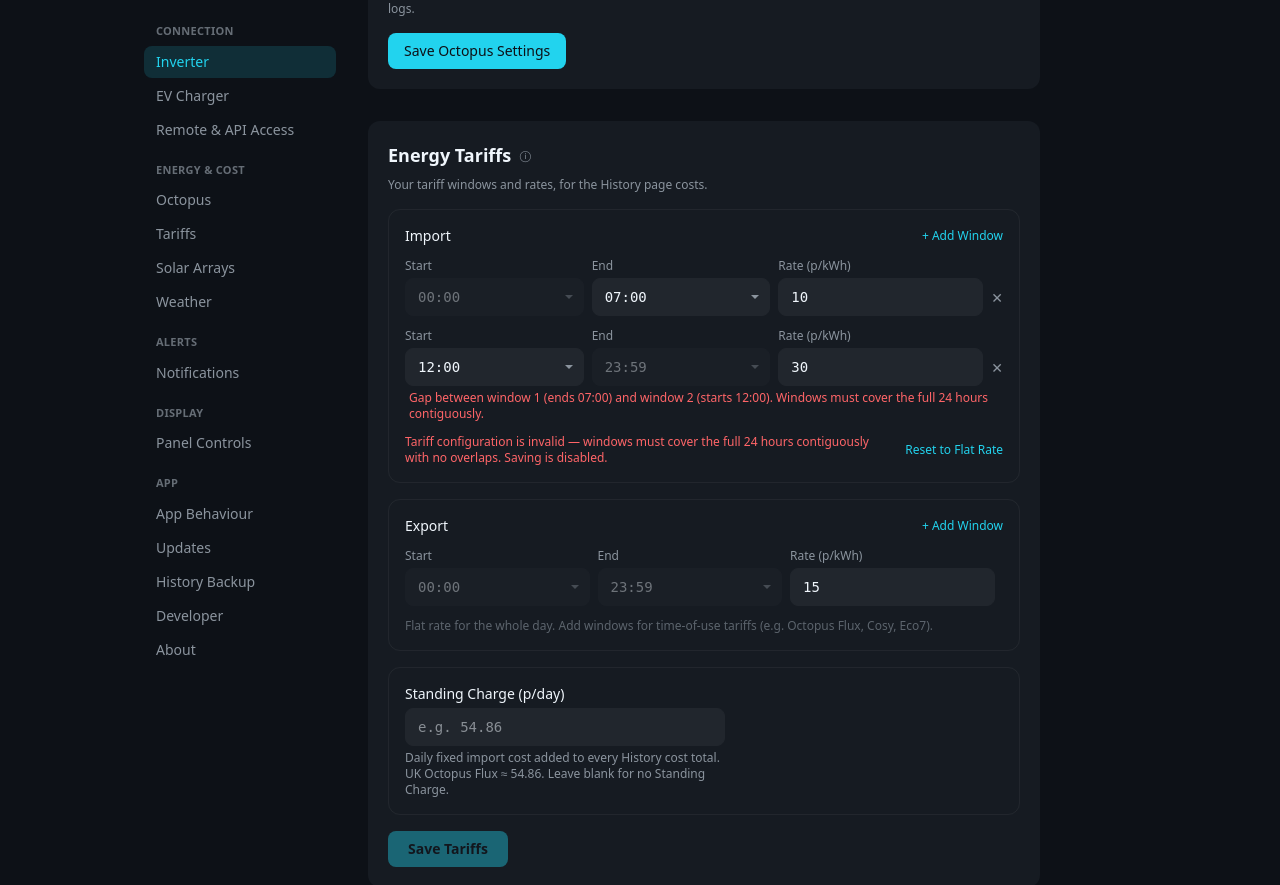
<SettingsPage/> — tariff window editor › explains a tariff that does not cover the day, blocks saving, and offers a reset
The width and height of the screenshot is (1280, 885).
(page scrolled)
expect the text "Tariff configuration is invalid" is shown: met, box [405,433,869,466]
expect the button "Save Tariffs" is disabled: met, box [388,831,508,867]
Click the button "Reset to Flat Rate" at coordinates (954, 450), box [905,442,1003,458]
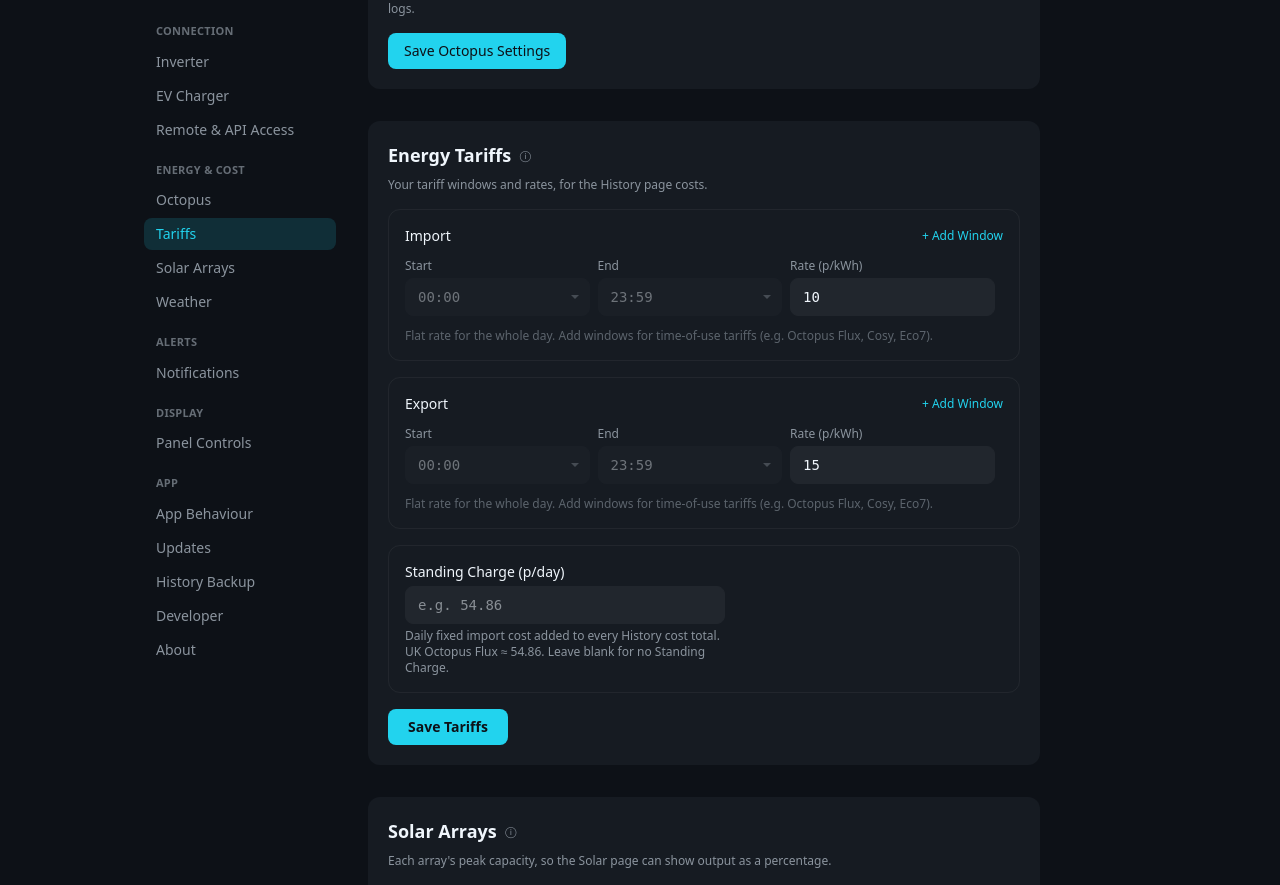
expect the text "Tariff configuration is invalid" is gone: met
expect the number of number fields labelled "Rate (p/kWh)" is 1: met, box [790,278,995,316]
expect the button "Save Tariffs" is enabled: met, box [388,709,508,745]
